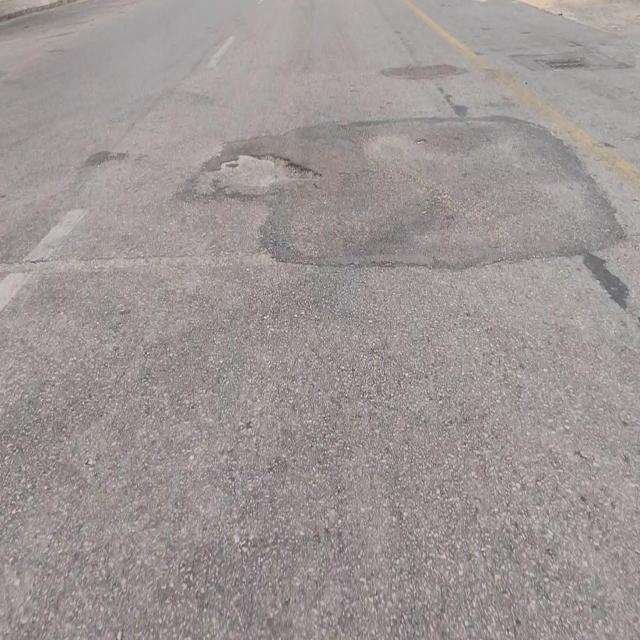Potholes: (219, 148, 316, 190)
